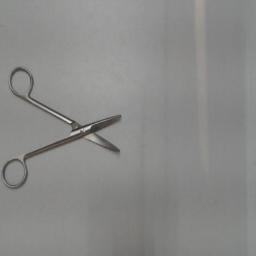Curved Mayo Scissors: (1, 62, 127, 192)
